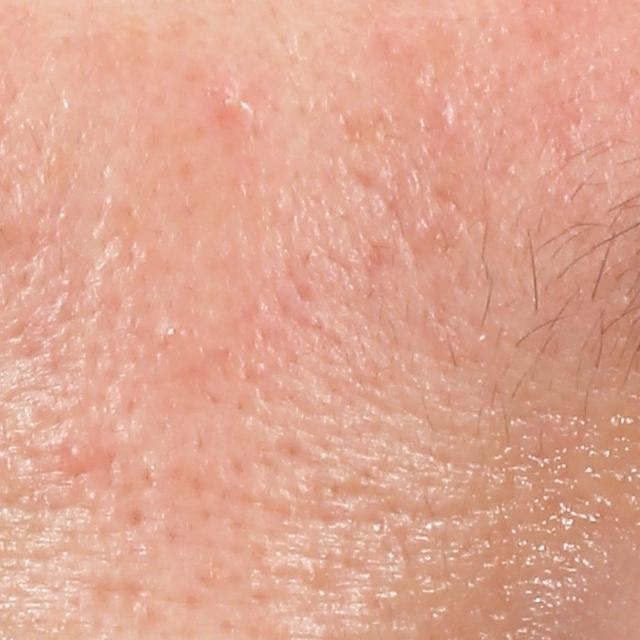papule: (205, 68, 266, 137)
